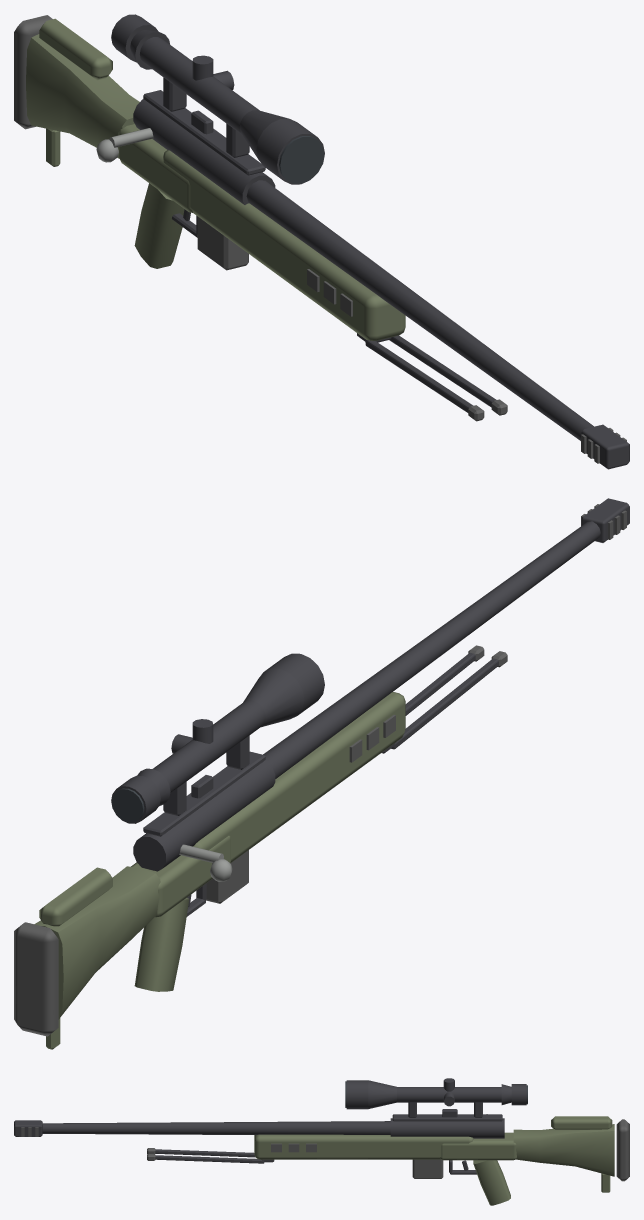
The model's file is sniper.glb.
The picture shows the model from 3 angles, top to bottom: view 1: azimuth 30°, elevation 25°; view 2: azimuth 150°, elevation 25°; view 3: azimuth 270°, elevation 25°; orthographic projection. The views are drawn at different scales.
Visible parts, largest first — view 1: sniper; view 2: sniper; view 3: sniper.
Boxes of the visible parts, x1,y1,x2,y2 form: sniper: (14, 14, 629, 469); sniper: (14, 498, 629, 1049); sniper: (14, 1078, 629, 1205).
Size of the model in its own units: 0.128 by 0.3096 by 1.4.
